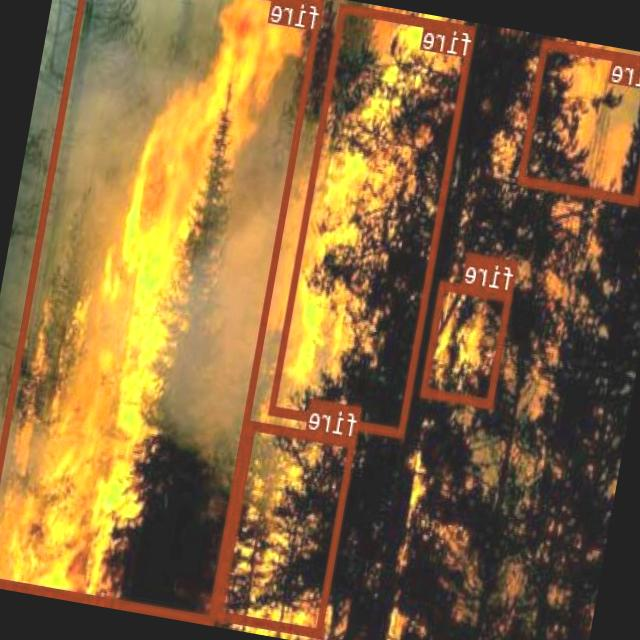fire: (0, 0, 324, 622), (270, 2, 477, 436), (217, 420, 357, 637), (518, 38, 640, 203), (422, 278, 514, 407)
